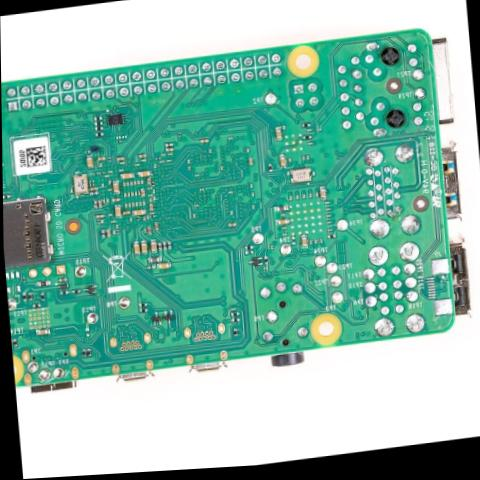Raspberry-Pi-4-Model-B: (0, 18, 480, 410)
